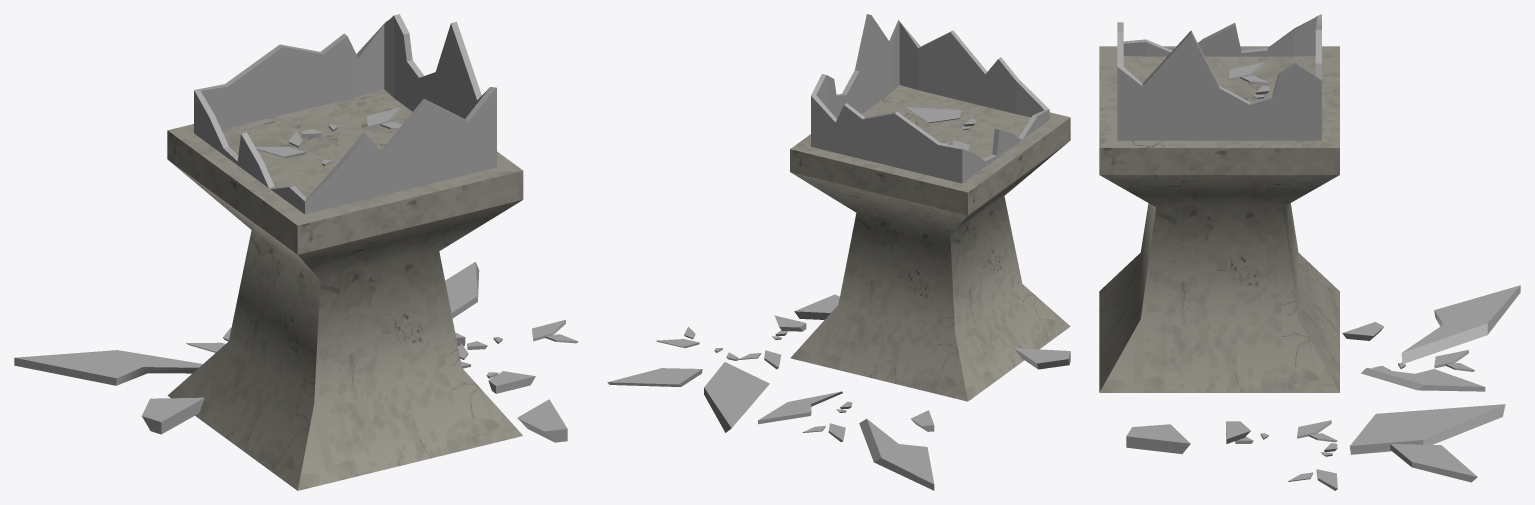
File: diamond podium.fbx
3 renders of one model, left to right at view 1: azimuth 30°, elevation 25°; view 2: azimuth 150°, elevation 25°; view 3: azimuth 270°, elevation 25°, orthographic. The views are drawn at different scales.
Visible parts, largest first — view 1: polySurface17; view 2: polySurface17; view 3: polySurface17.
Boxes of the visible parts, x1,y1,x2,y2 form: polySurface17: (14, 14, 578, 490); polySurface17: (607, 14, 1070, 490); polySurface17: (1099, 14, 1520, 490).
Bounding box in the file's own units: 2.1 × 1.75 × 1.75.
